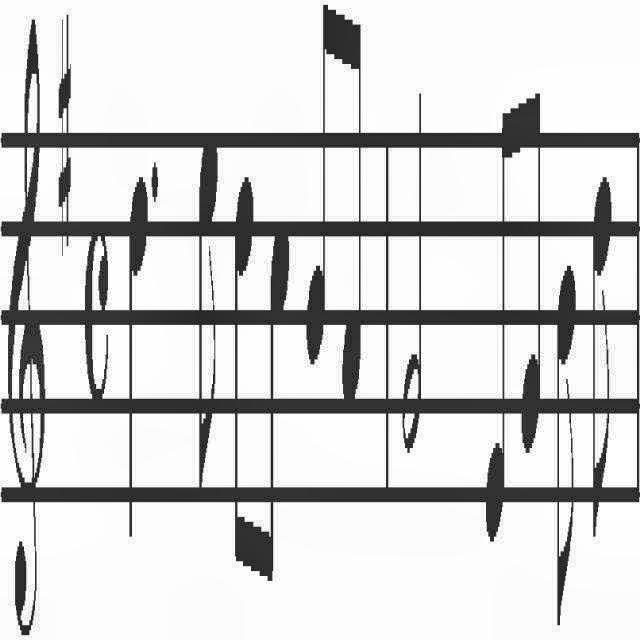Bass-clef: (7, 6, 49, 640)
Diez: (54, 4, 74, 264)
Eighth-note: (258, 207, 290, 587), (483, 89, 509, 554), (305, 0, 331, 376), (520, 71, 544, 467), (341, 0, 364, 406), (588, 166, 612, 550), (233, 167, 255, 585), (554, 252, 576, 640), (198, 132, 220, 500)
Half-note: (401, 77, 424, 471)
Quarter-note: (128, 168, 148, 556)
